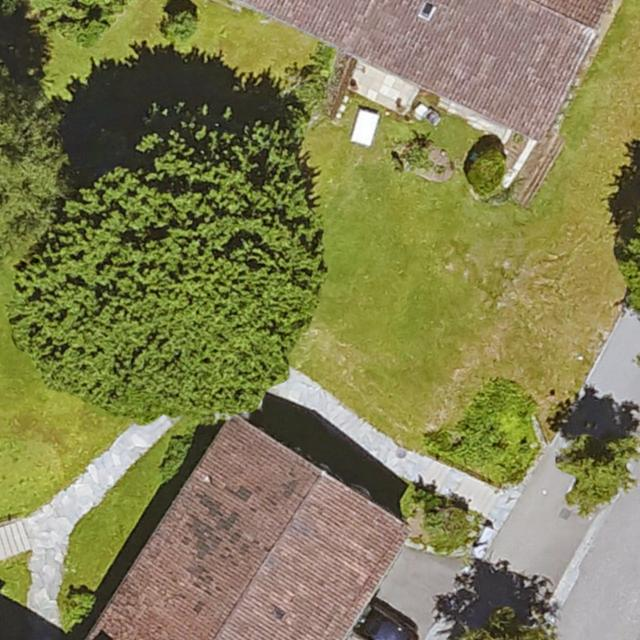tree: (7, 117, 322, 419), (0, 72, 69, 277), (561, 436, 634, 510), (438, 610, 556, 640), (617, 206, 640, 326), (470, 152, 507, 192), (160, 7, 198, 42)
